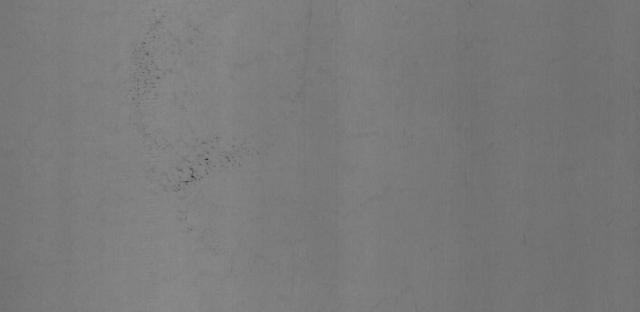inclusion: (150, 134, 252, 201), (130, 8, 196, 105)
